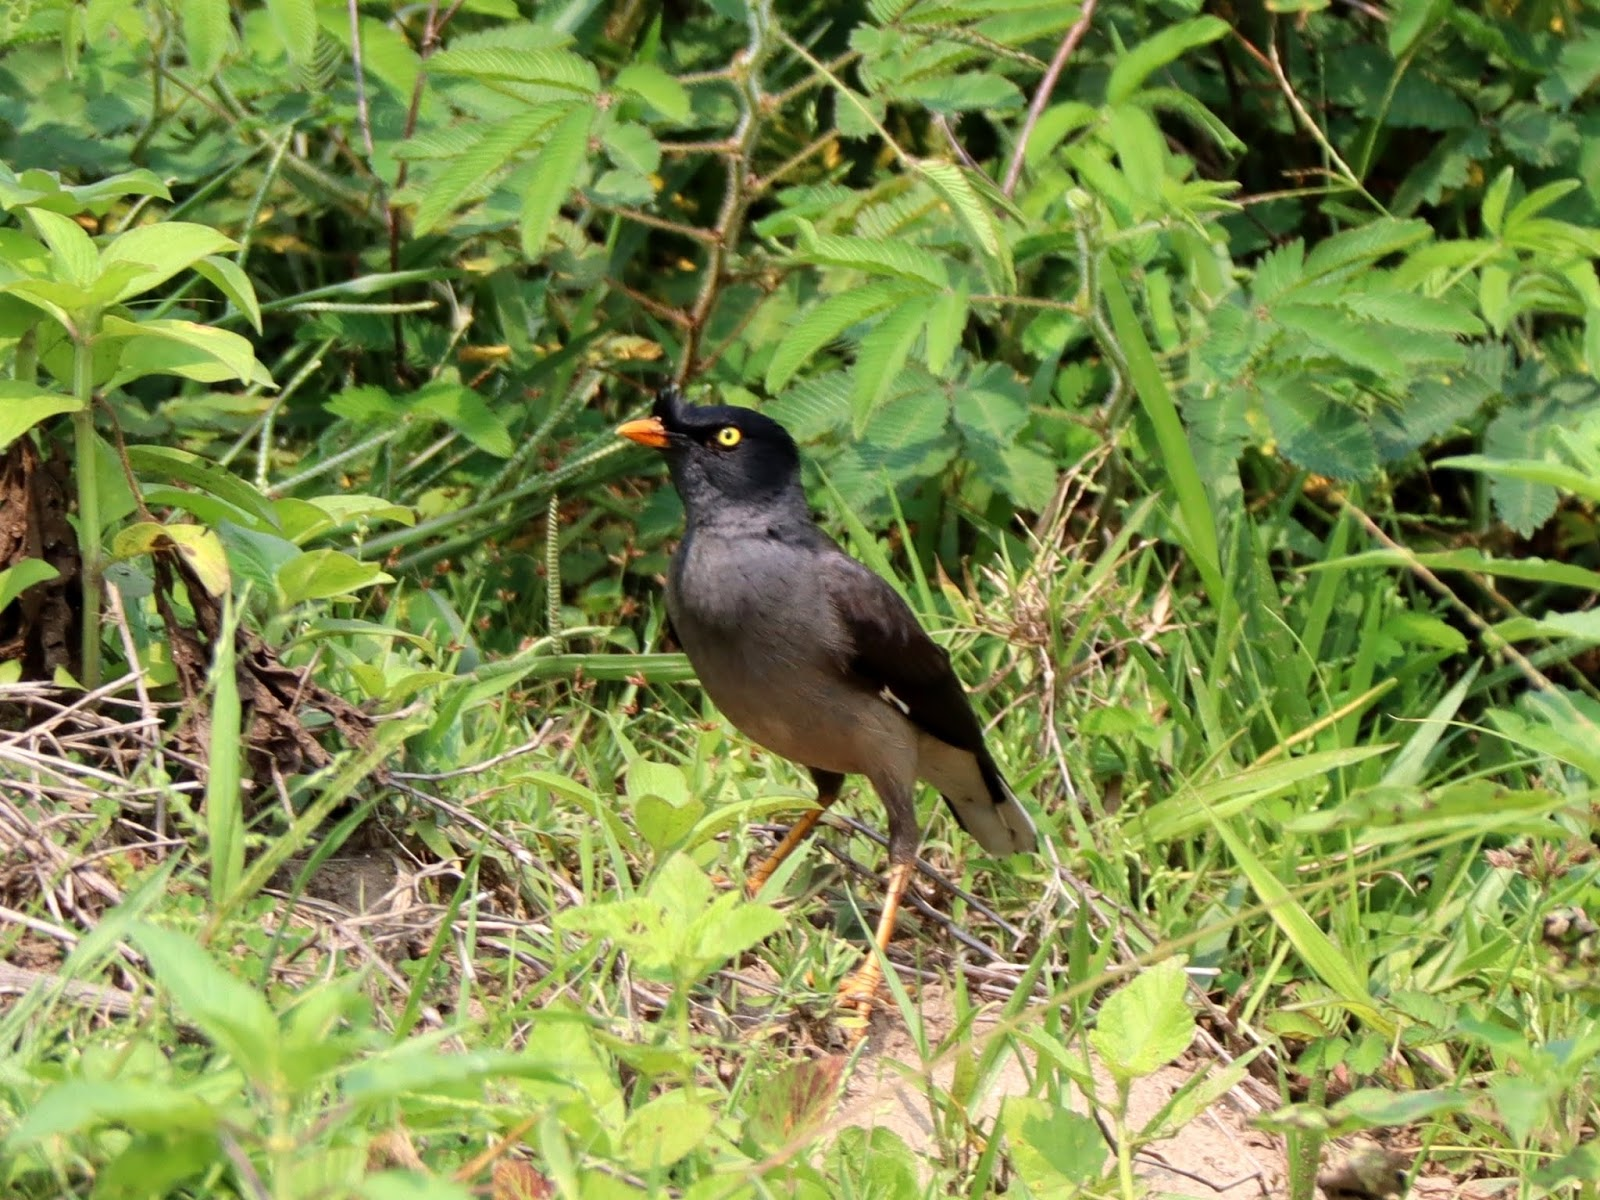bird: (603, 384, 1037, 1011)
